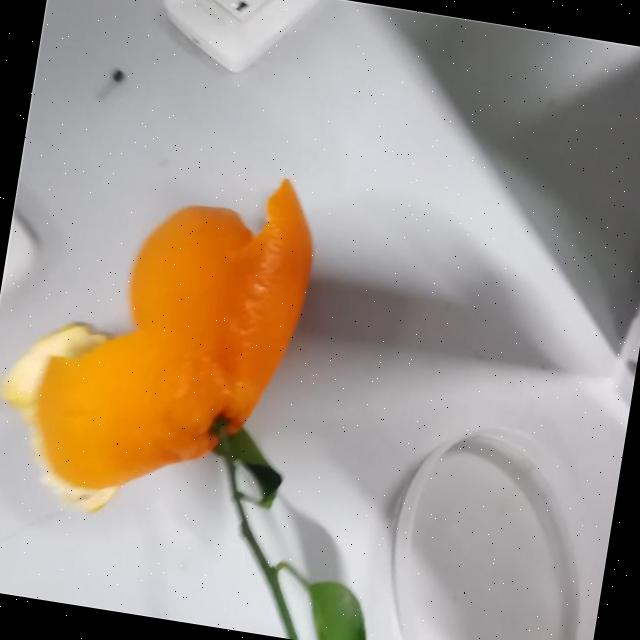orange-peel: (10, 141, 328, 525)
